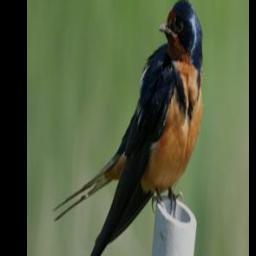Swallow: (53, 0, 205, 256)
